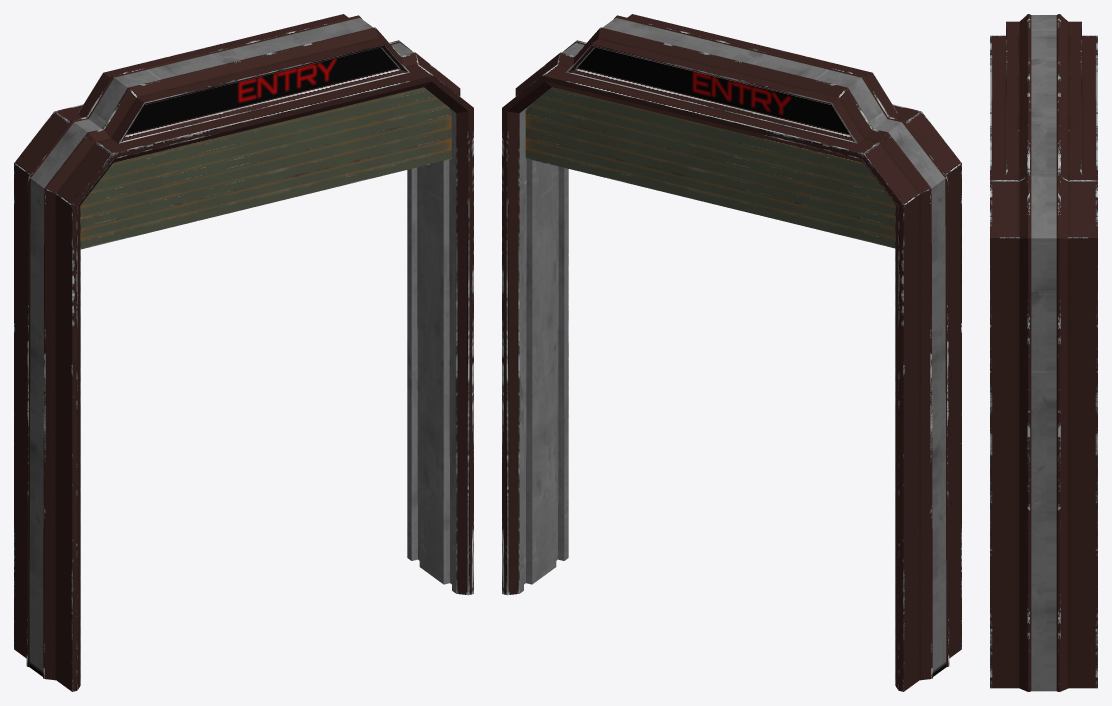
The model's file is OPEN DOOR.fbx.
3 renders of one model, left to right at view 1: azimuth 30°, elevation 25°; view 2: azimuth 150°, elevation 25°; view 3: azimuth 270°, elevation 25°, orthographic. The views are drawn at different scales.
Parts seen in each view (by area): view 1: door5; view 2: door5; view 3: door5.
Part boxes in pixels (x1,y1,x2,y2): door5: [14, 14, 473, 691]; door5: [502, 14, 961, 691]; door5: [990, 14, 1097, 691].
Size of the model in its own units: 260 by 339 by 62.69.
